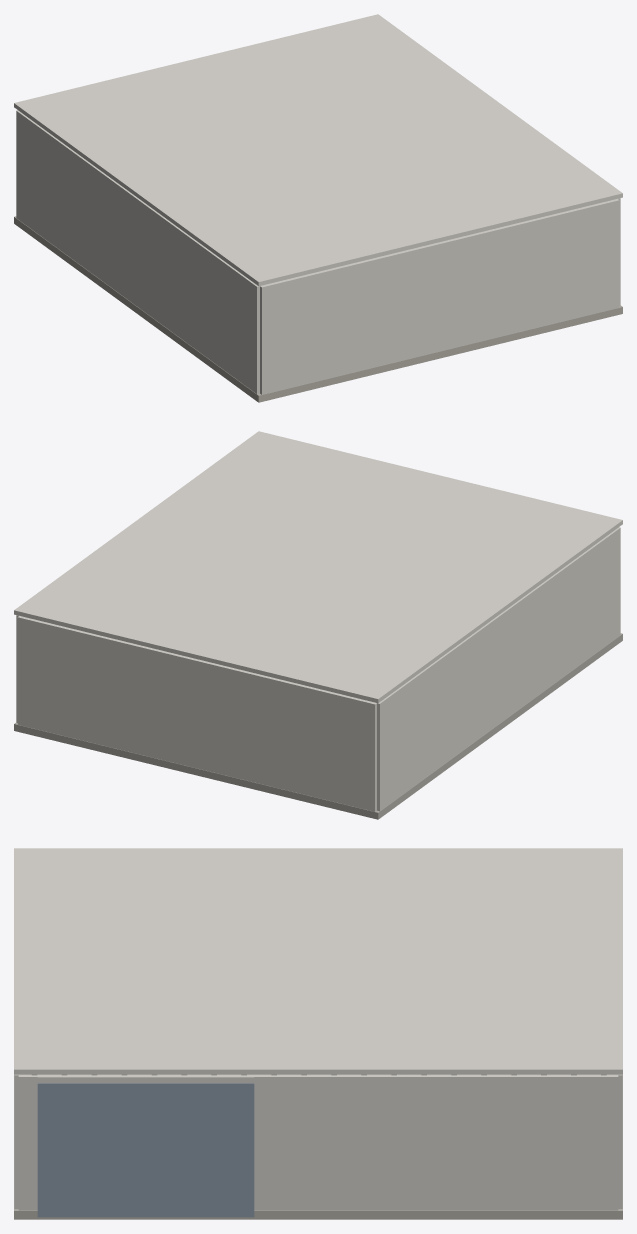
The model's file is gallery.glb.
The picture shows the model from 3 angles, top to bottom: view 1: azimuth 30°, elevation 25°; view 2: azimuth 150°, elevation 25°; view 3: azimuth 270°, elevation 25°; orthographic projection. The views are drawn at different scales.
Visible parts, largest first — view 1: Architecture_Warm_plaster, Architecture_Concrete; view 2: Architecture_Warm_plaster, Architecture_Concrete; view 3: Architecture_Warm_plaster, Architecture_Exterior_ambient, Architecture_Concrete.
Boxes of the visible parts, left/top/right/bottom form: Architecture_Warm_plaster: left=14, top=14, right=622, bottom=394; Architecture_Concrete: left=14, top=216, right=622, bottom=402; Architecture_Warm_plaster: left=14, top=431, right=622, bottom=811; Architecture_Concrete: left=14, top=633, right=622, bottom=819; Architecture_Warm_plaster: left=14, top=848, right=622, bottom=1210; Architecture_Exterior_ambient: left=37, top=1083, right=254, bottom=1217; Architecture_Concrete: left=14, top=1075, right=622, bottom=1219.
Bounding box in the file's own units: 11.21 × 3.48 × 12.8.
